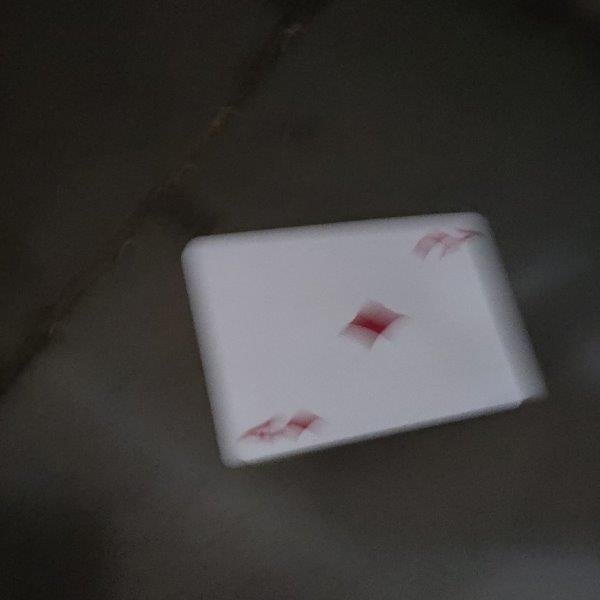Ace of Diamonds: (180, 210, 549, 469)
